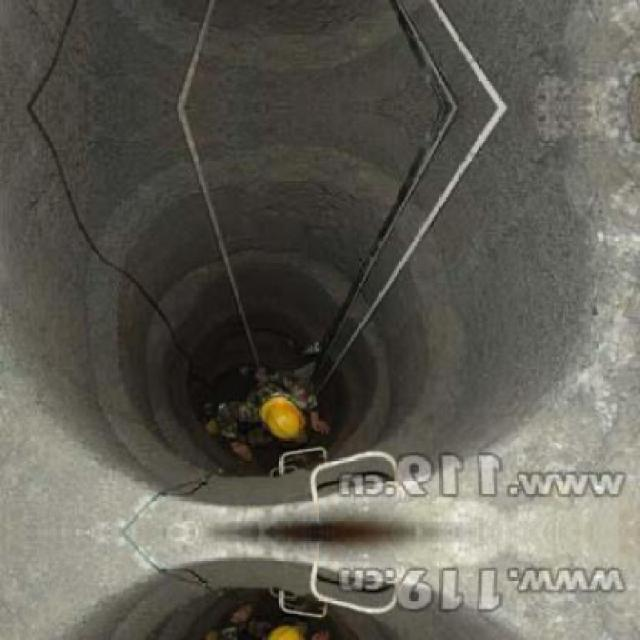helmet: (260, 395, 309, 443), (258, 620, 310, 638)
